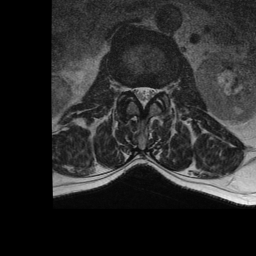CCS_normal: (139, 79, 147, 113)
LFS_severe_stenosis: (155, 79, 163, 100)
LLS_normal: (147, 79, 155, 106)
RFS_stenosis: (123, 77, 131, 99)
RLS_normal: (131, 79, 139, 104)
